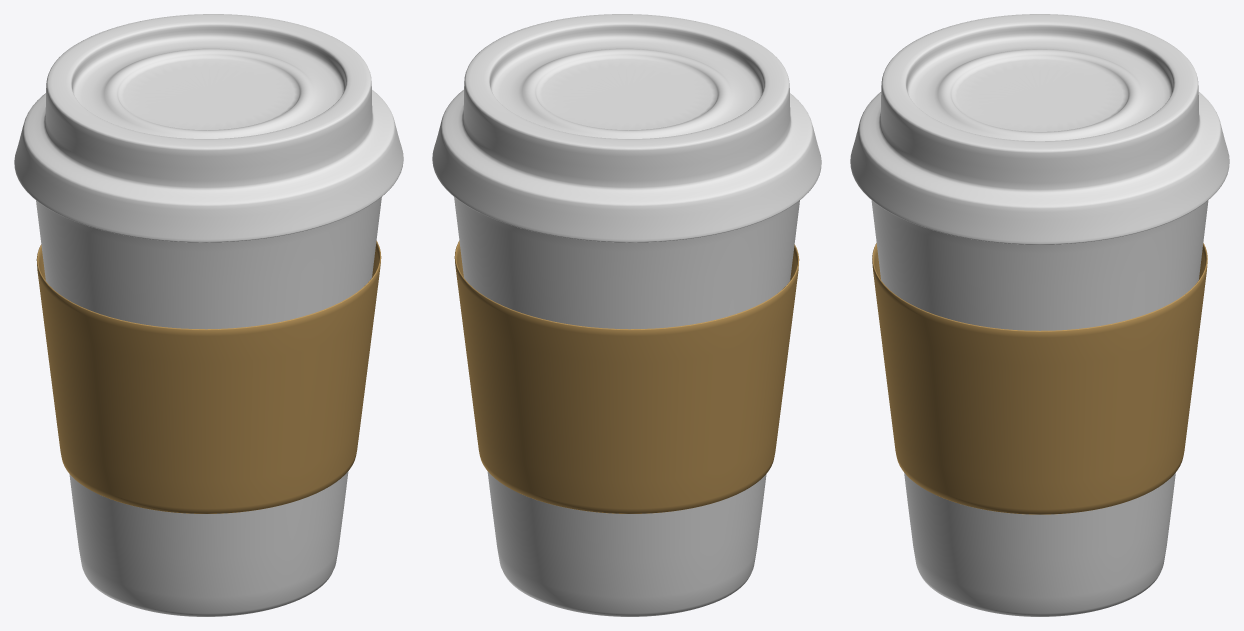
Rendered from Cafe.fbx.
3 views of the same model, side by side, from view 1: azimuth 30°, elevation 25°; view 2: azimuth 150°, elevation 25°; view 3: azimuth 270°, elevation 25° (orthographic).
Visible parts, largest first — view 1: Circle.001, Circle.002, Paper Coffee Cup 12oz 400ml; view 2: Circle.001, Circle.002, Paper Coffee Cup 12oz 400ml; view 3: Circle.001, Circle.002, Paper Coffee Cup 12oz 400ml.
Boxes of the visible parts, bbox=[...] form: Circle.001: bbox=[14, 14, 403, 242]; Circle.002: bbox=[36, 241, 381, 513]; Paper Coffee Cup 12oz 400ml: bbox=[36, 197, 381, 616]; Circle.001: bbox=[432, 14, 821, 242]; Circle.002: bbox=[454, 241, 799, 513]; Paper Coffee Cup 12oz 400ml: bbox=[454, 197, 799, 616]; Circle.001: bbox=[850, 14, 1229, 244]; Circle.002: bbox=[872, 243, 1207, 514]; Paper Coffee Cup 12oz 400ml: bbox=[871, 200, 1208, 616].
Size of the model in its own units: 17.39 by 23.79 by 16.9.
